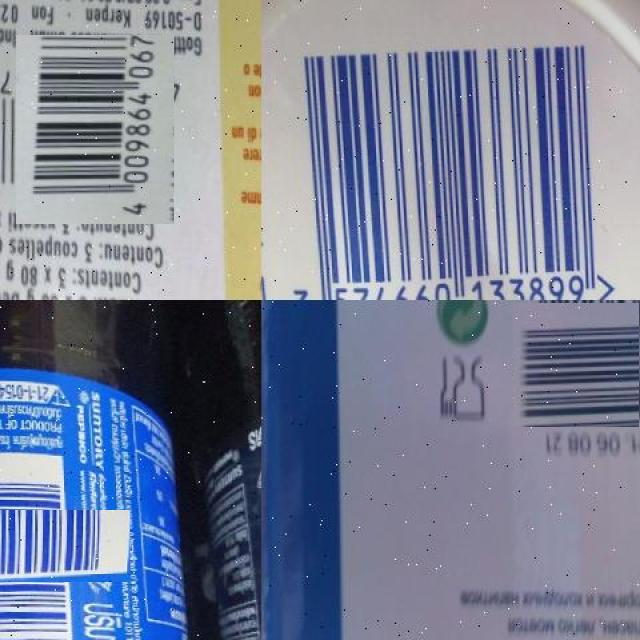Barcode: (267, 19, 621, 300), (8, 42, 182, 216), (514, 301, 640, 429), (0, 481, 101, 611)
